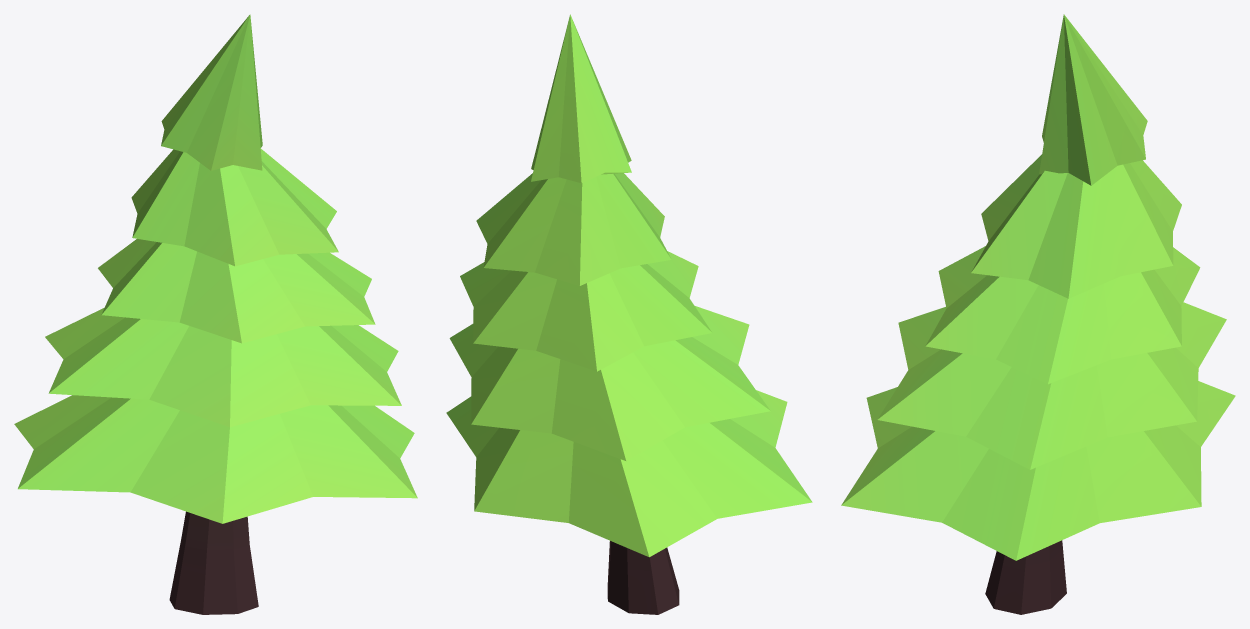
File: tree7.fbx
3 renders of one model, left to right at view 1: azimuth 30°, elevation 25°; view 2: azimuth 150°, elevation 25°; view 3: azimuth 270°, elevation 25°, orthographic. The views are drawn at different scales.
Visible parts, largest first — view 1: Cylinder.010; view 2: Cylinder.010; view 3: Cylinder.010.
Boxes of the visible parts, x1,y1,x2,y2 form: Cylinder.010: (14, 14, 417, 614); Cylinder.010: (446, 14, 812, 614); Cylinder.010: (841, 14, 1235, 614).
Size of the model in its own units: 506 by 727 by 426.
